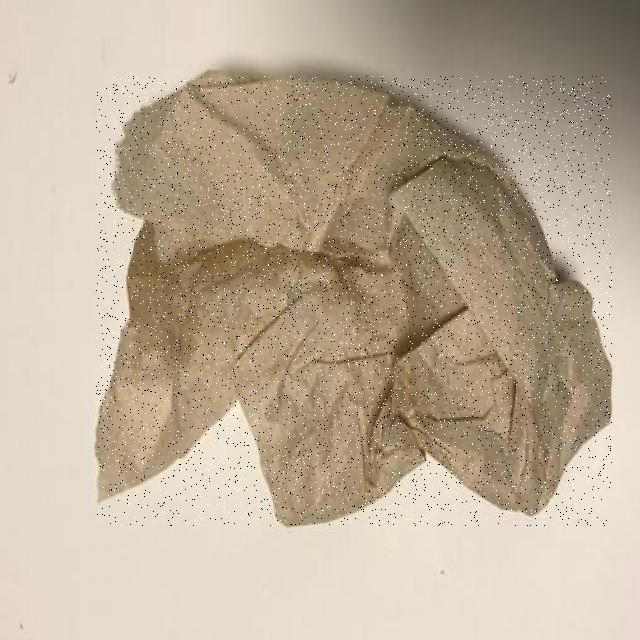paper: (96, 76, 612, 526)
